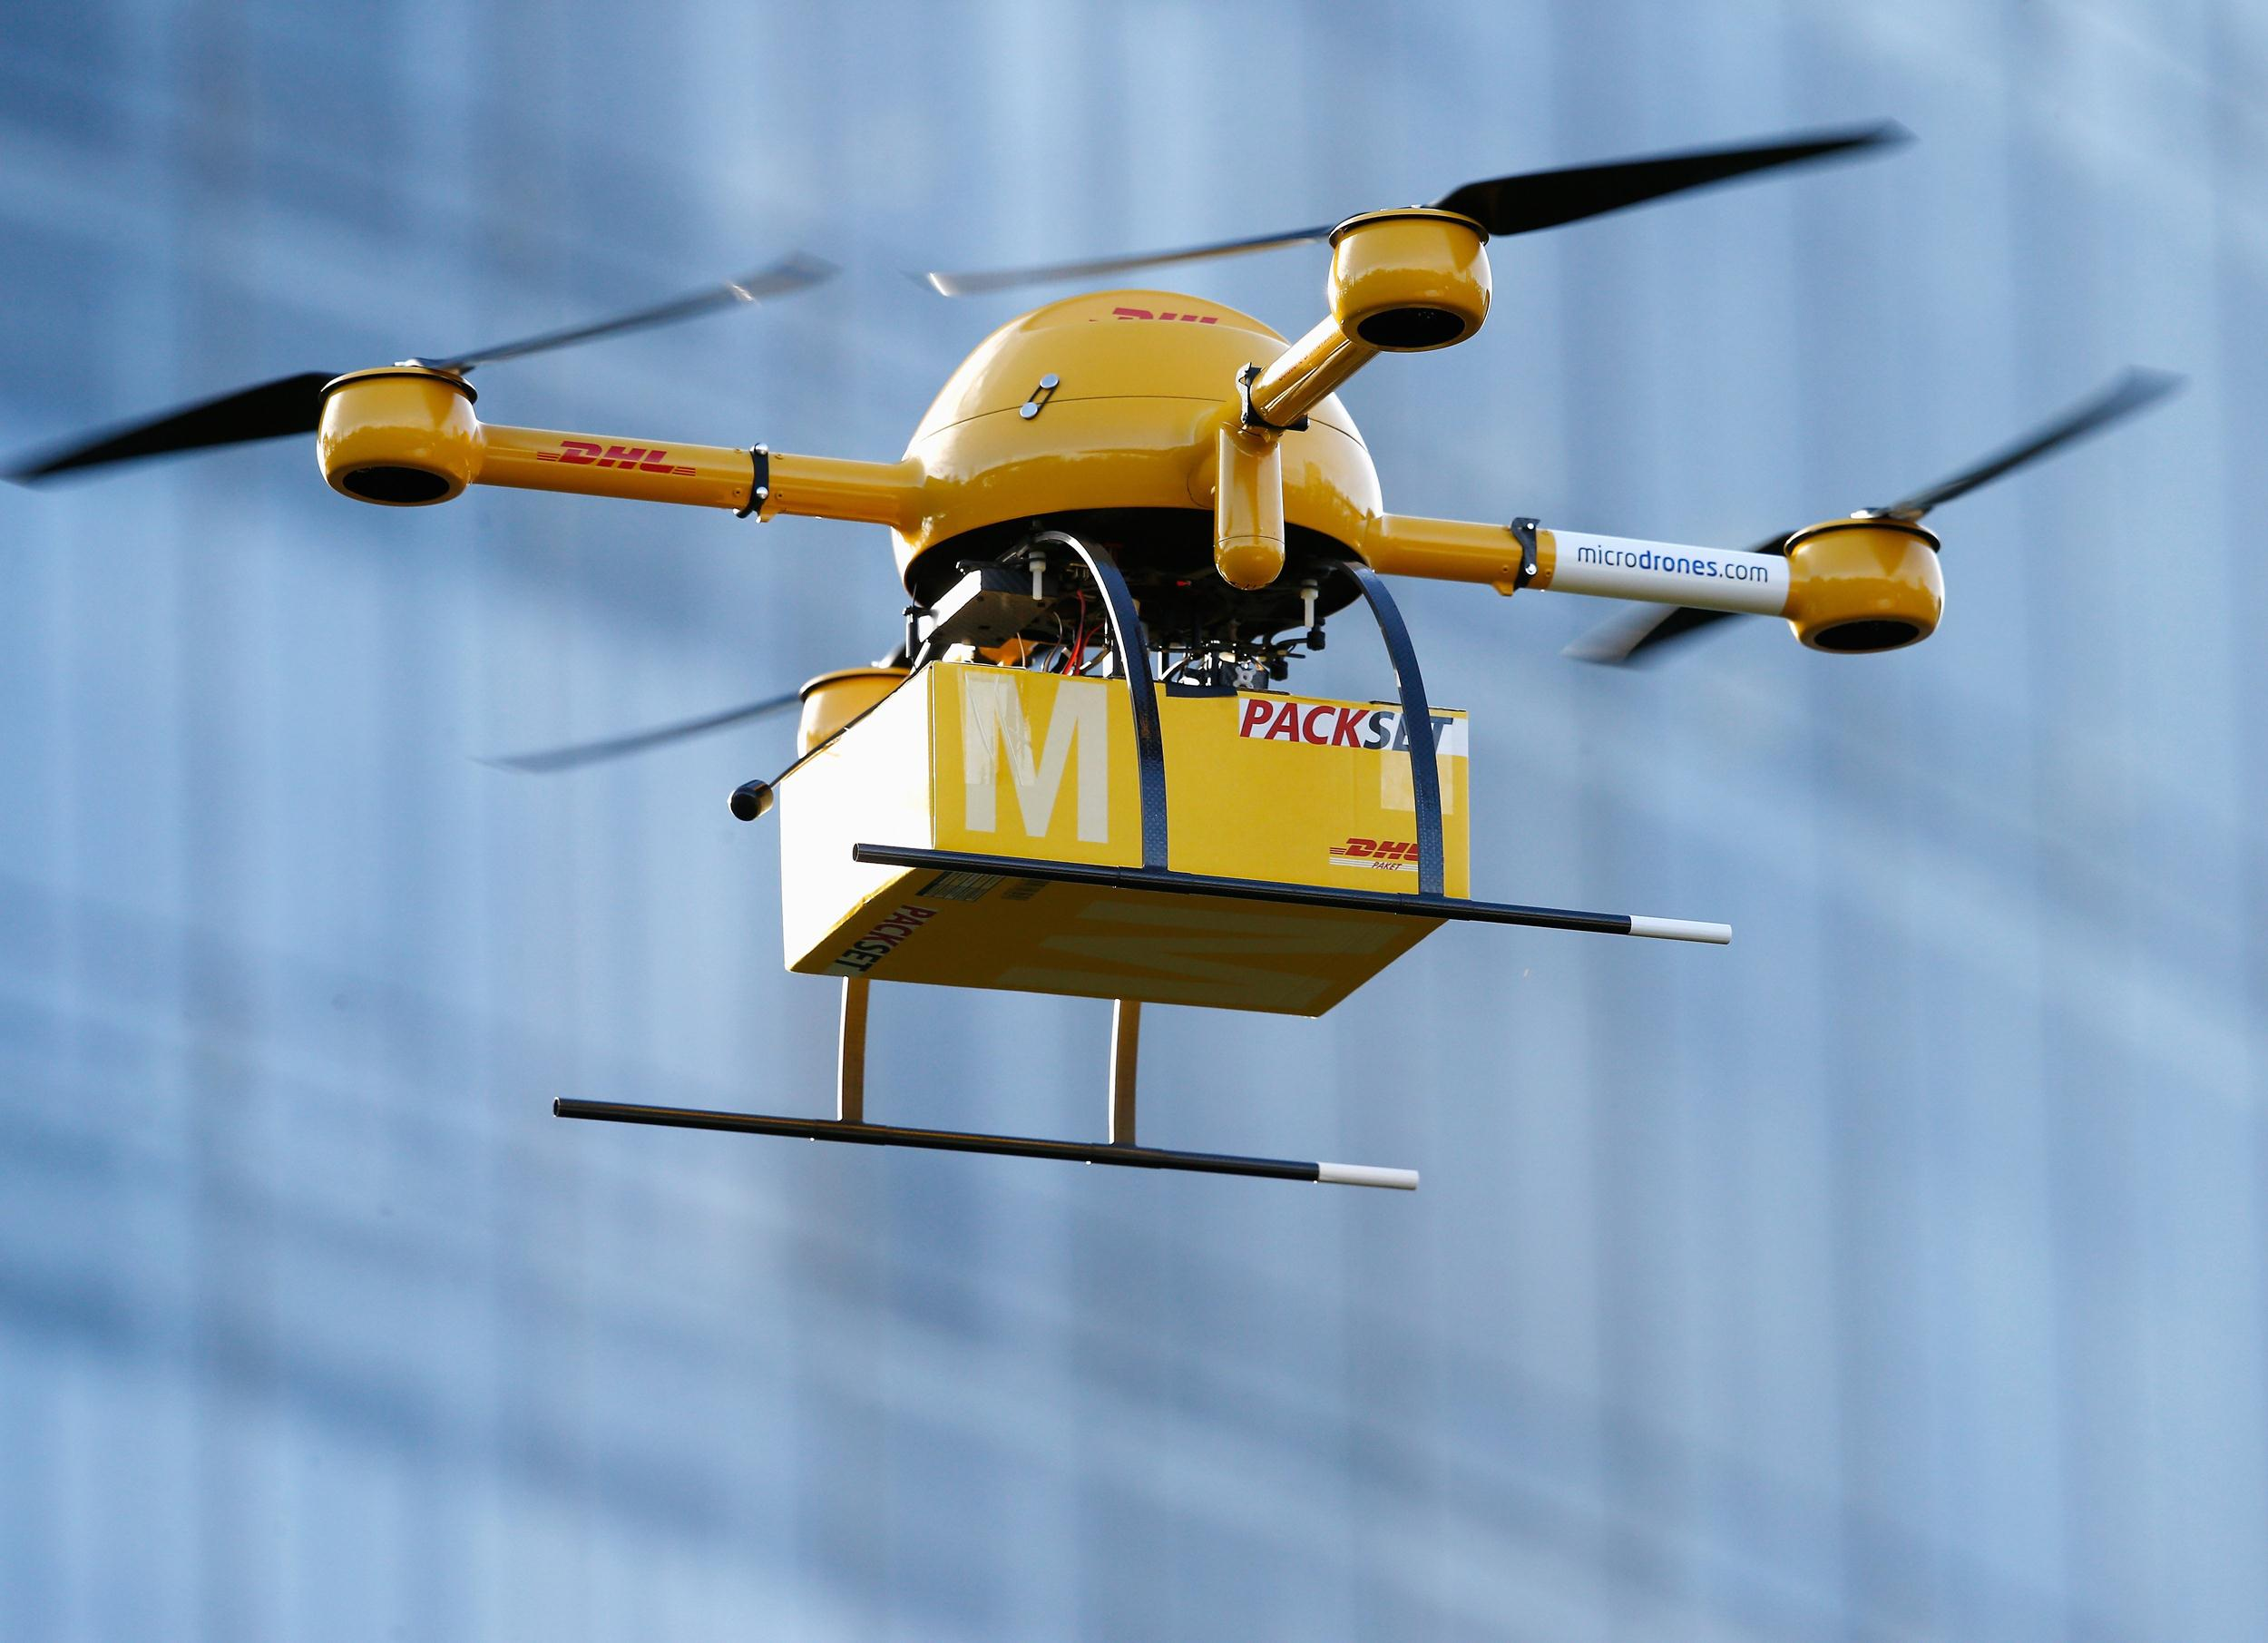drone: (2, 109, 2196, 1203)
